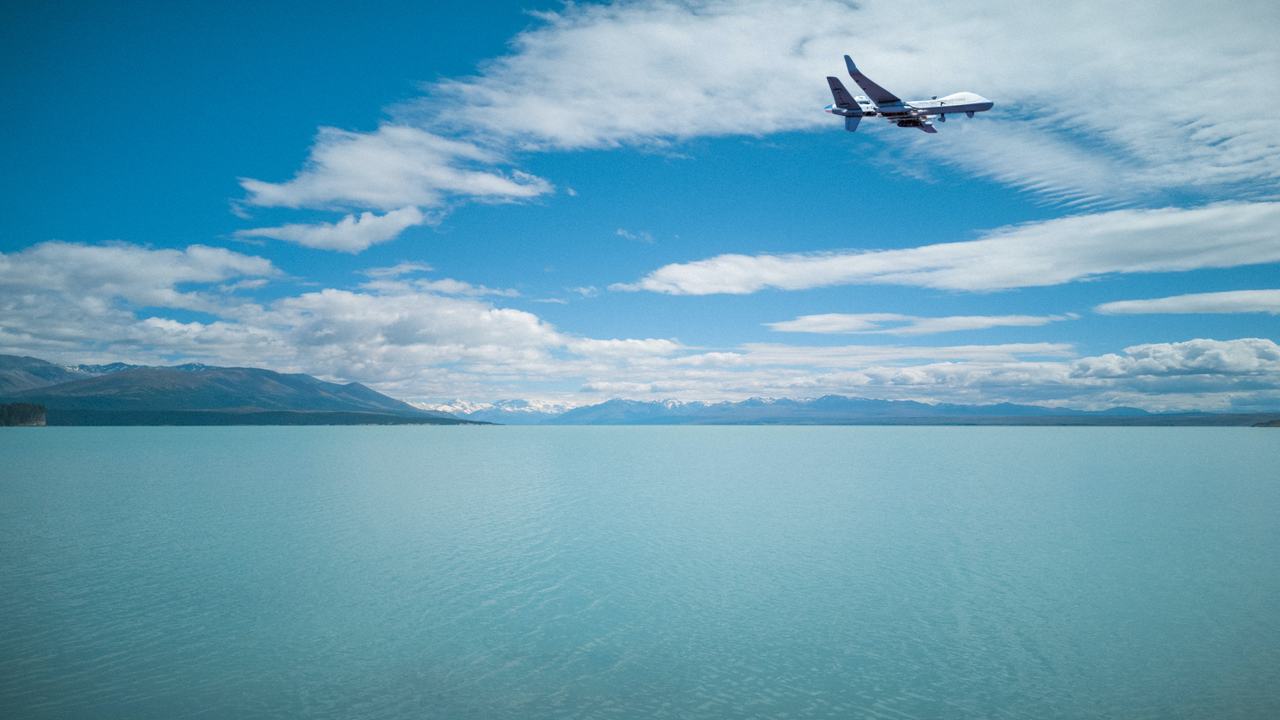military drone: (823, 55, 993, 133)
